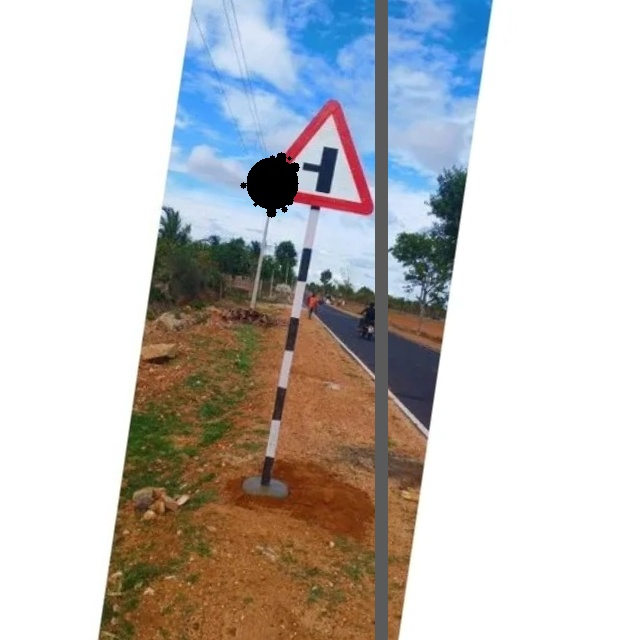Side_Road_Left: (253, 86, 392, 220)
